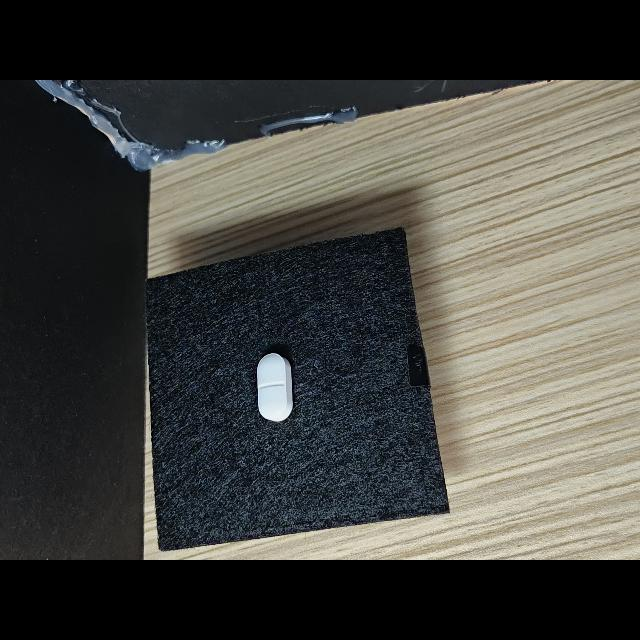Intact Pill: (257, 353, 293, 422)
